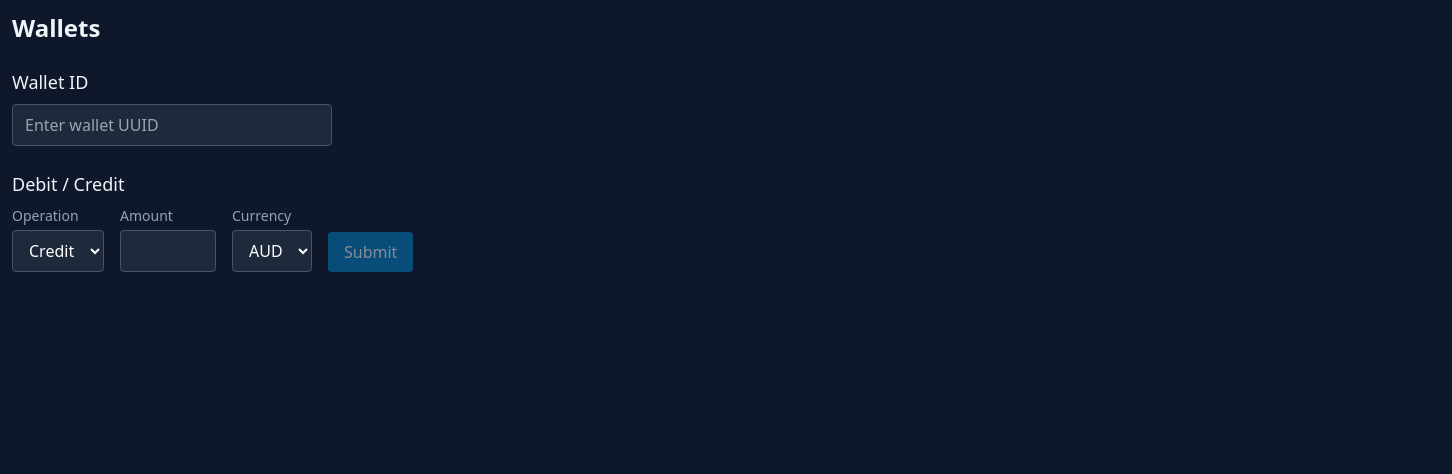
Test: WalletsPage › shows limit alert when balance is low
Type "w1" into the field with placeholder "Enter wallet UUID" at (172, 125), box left=12, top=104, right=332, bottom=146
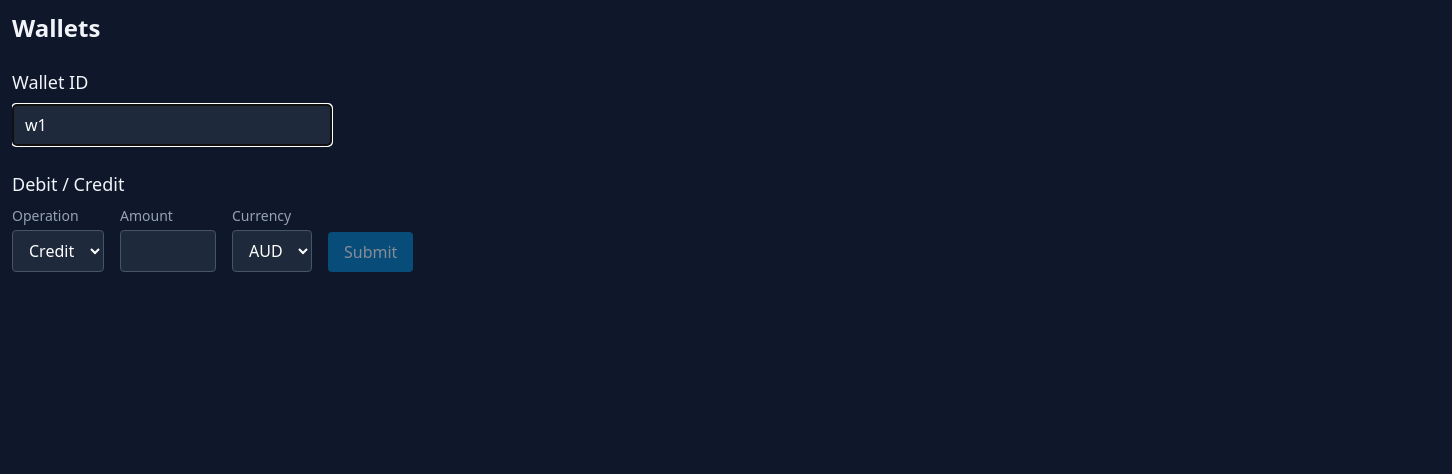
Type "10" into the number field at (168, 251), box left=120, top=230, right=216, bottom=272
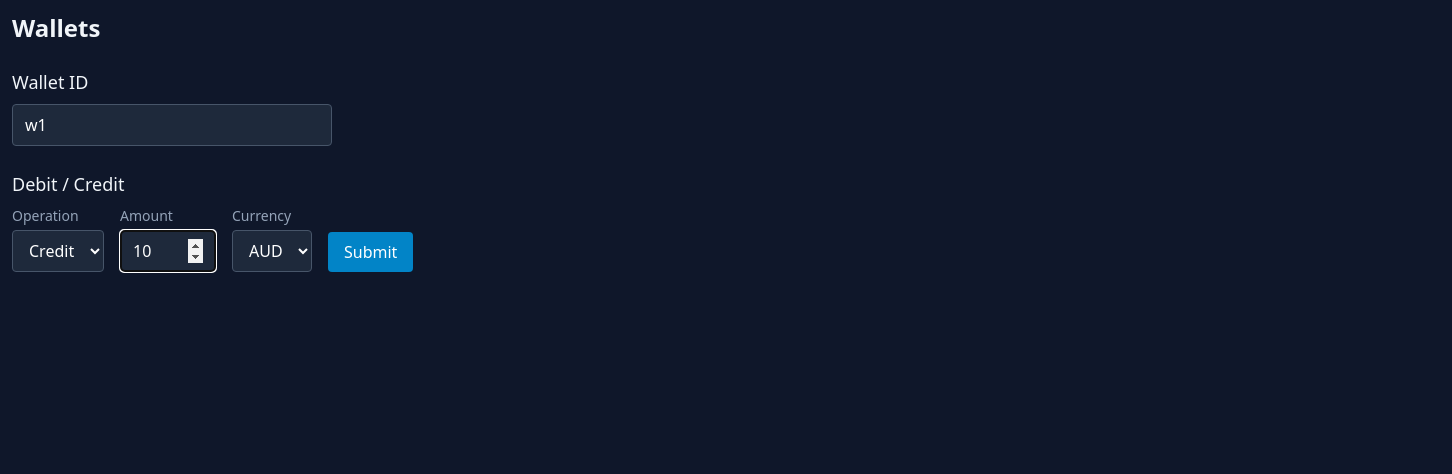
Click the button "Submit" at (371, 252), box left=328, top=232, right=413, bottom=272
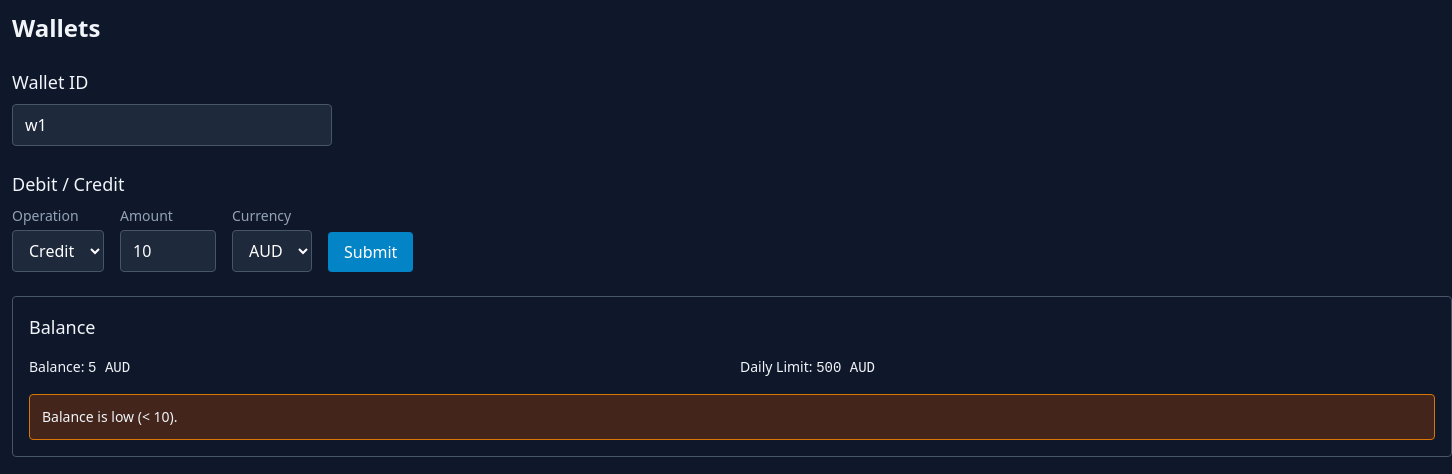
Expected: the text "Balance is low (< 10)." is shown, left=42, top=407, right=178, bottom=426
